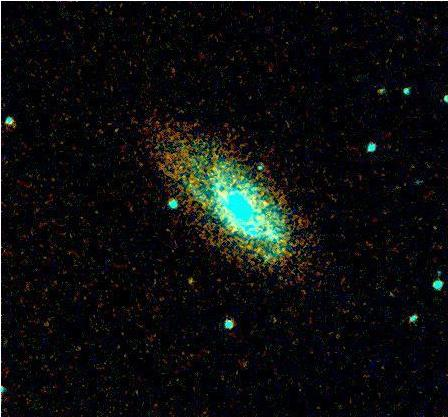star: (175, 267, 205, 297)
